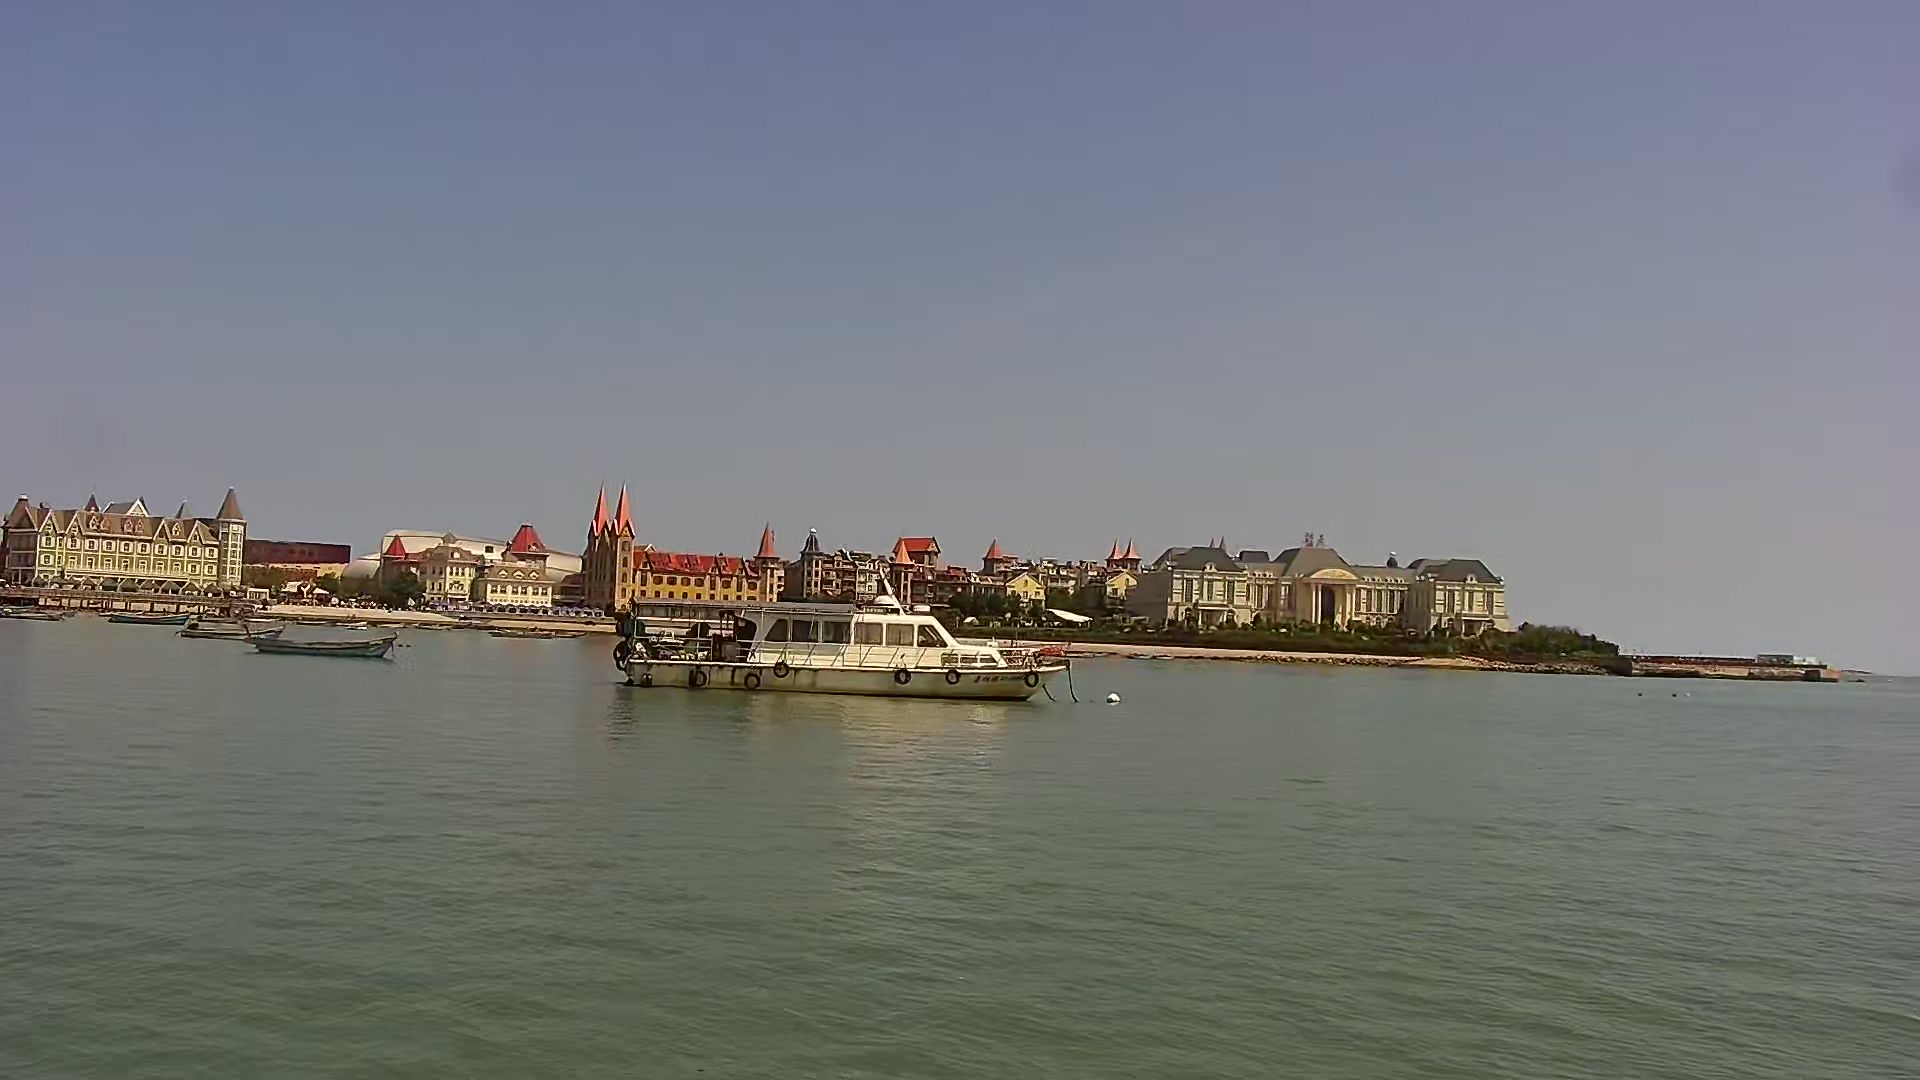ball: (1100, 687, 1127, 705)
boat: (252, 632, 404, 661), (167, 612, 287, 646), (95, 597, 200, 628)
ship: (611, 591, 1077, 705)
